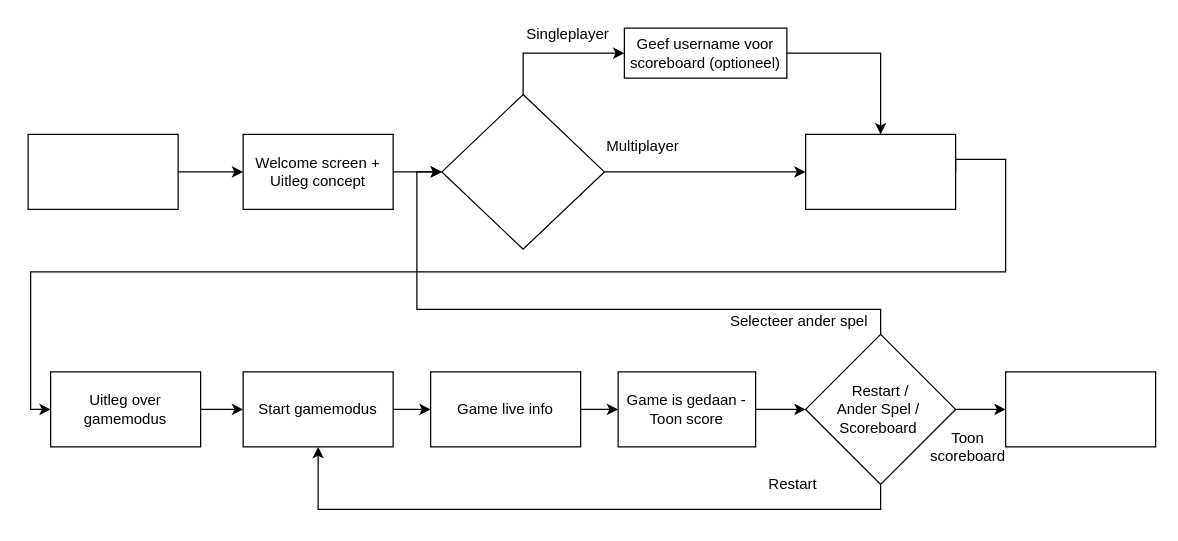
This 1178x541 diagram has some shape labels left out. Here are the shapes that lost their labels. From the top down, the box of each, then its label:
(27, 133, 178, 209): User scanned QR-code / Geeft IP in
(441, 93, 604, 249): keuze modus (single/mutliplayer)
(804, 133, 956, 209): Selectie game- modus
(1004, 371, 1156, 447): Tonen van het scoreboard
